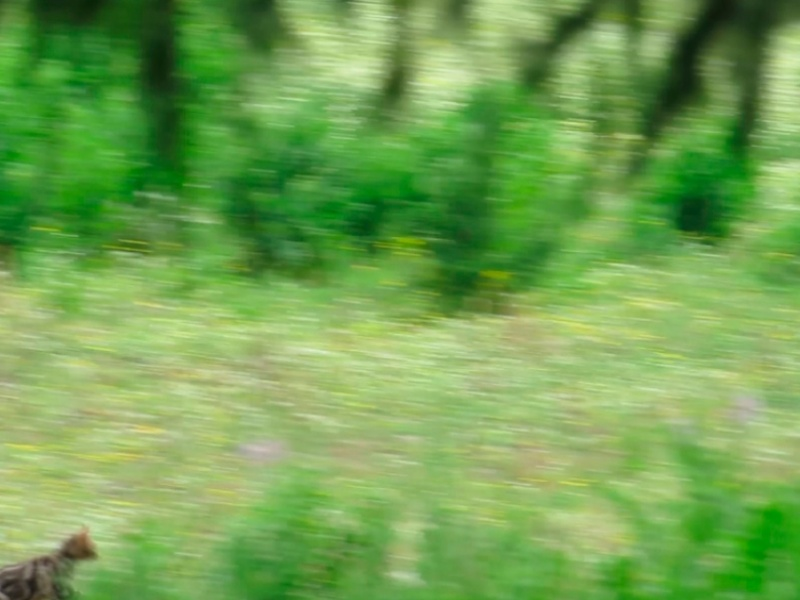cat: (2, 524, 103, 598)
